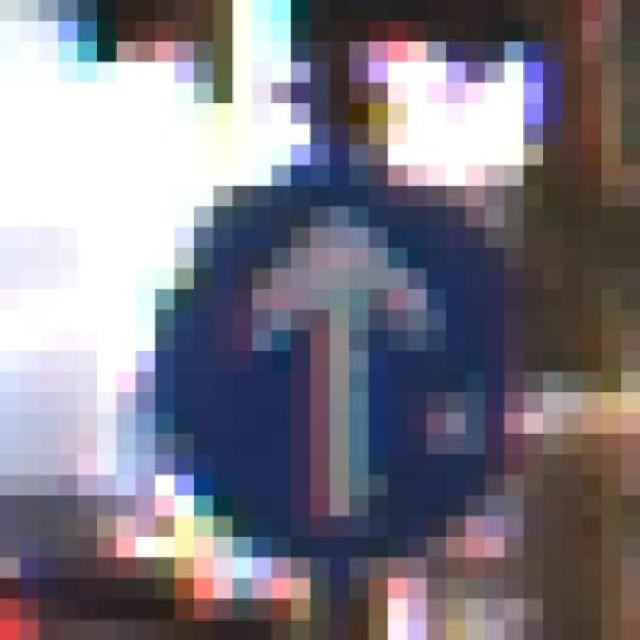Straight Ahead Only: (116, 144, 524, 578)
